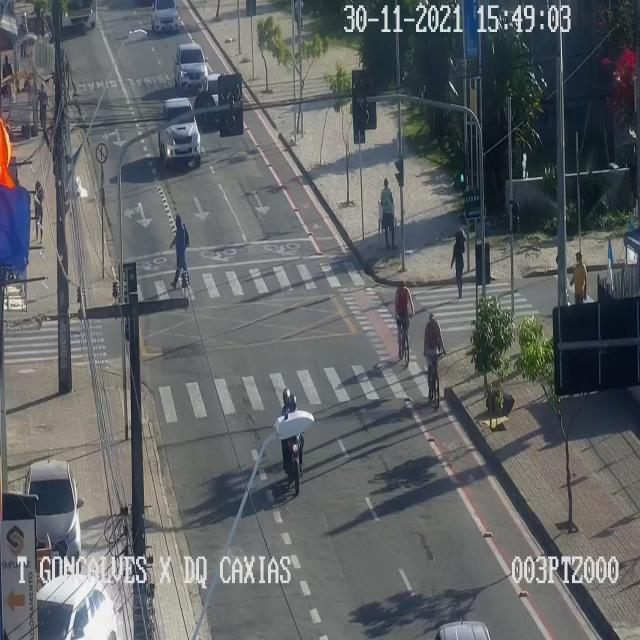Bus: (56, 0, 100, 30)
Car: (24, 461, 80, 570), (36, 573, 116, 639), (158, 97, 200, 164), (174, 42, 208, 90), (202, 74, 234, 122), (152, 2, 182, 30)
Motorcycle: (280, 388, 304, 493)
